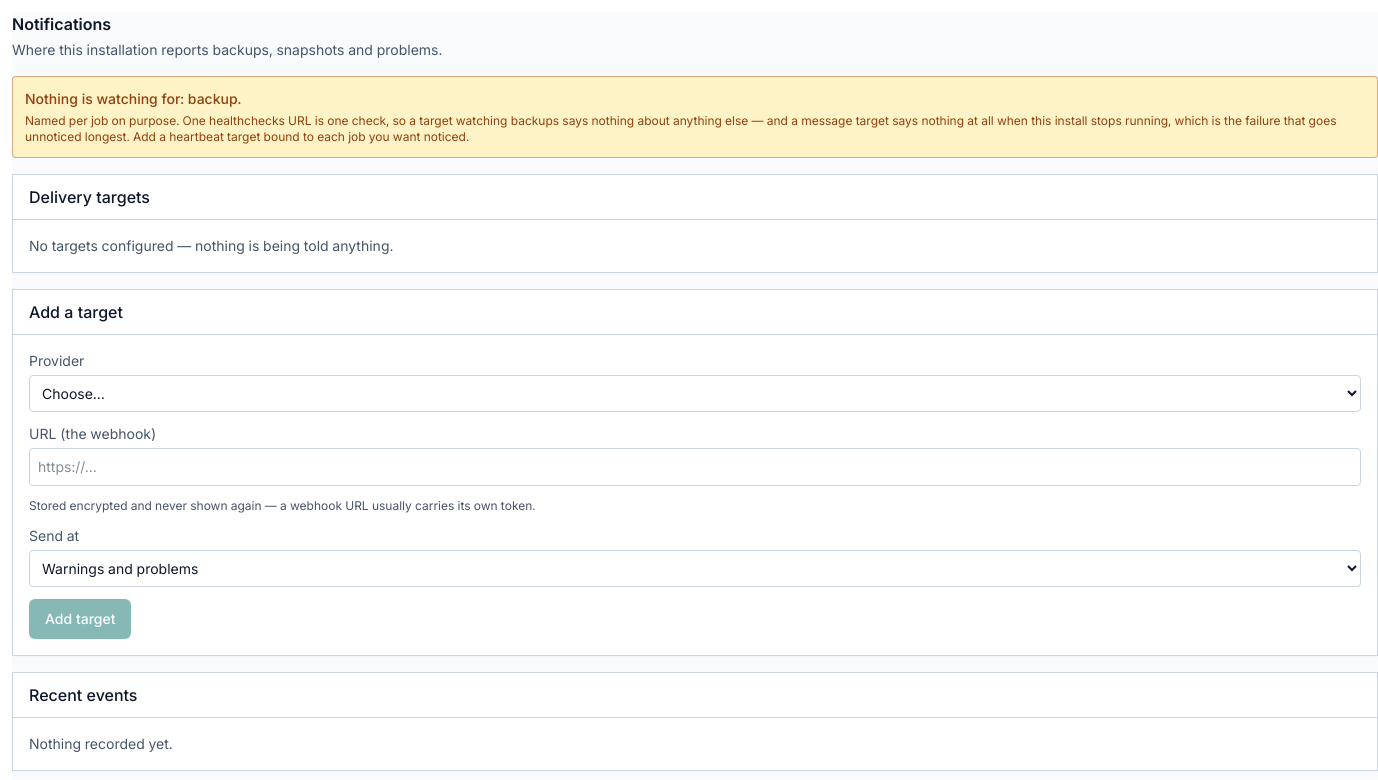
Test: NotificationsPanel › offers no severity floor for a provider whose routing never reads one
The width and height of the screenshot is (1378, 780).
// A message provider: the floor is real and must stay.
Select "Webhook" in the dropdown labelled "Provider". click: (695, 394)
box: x1=29 y1=375 x2=1361 y2=412
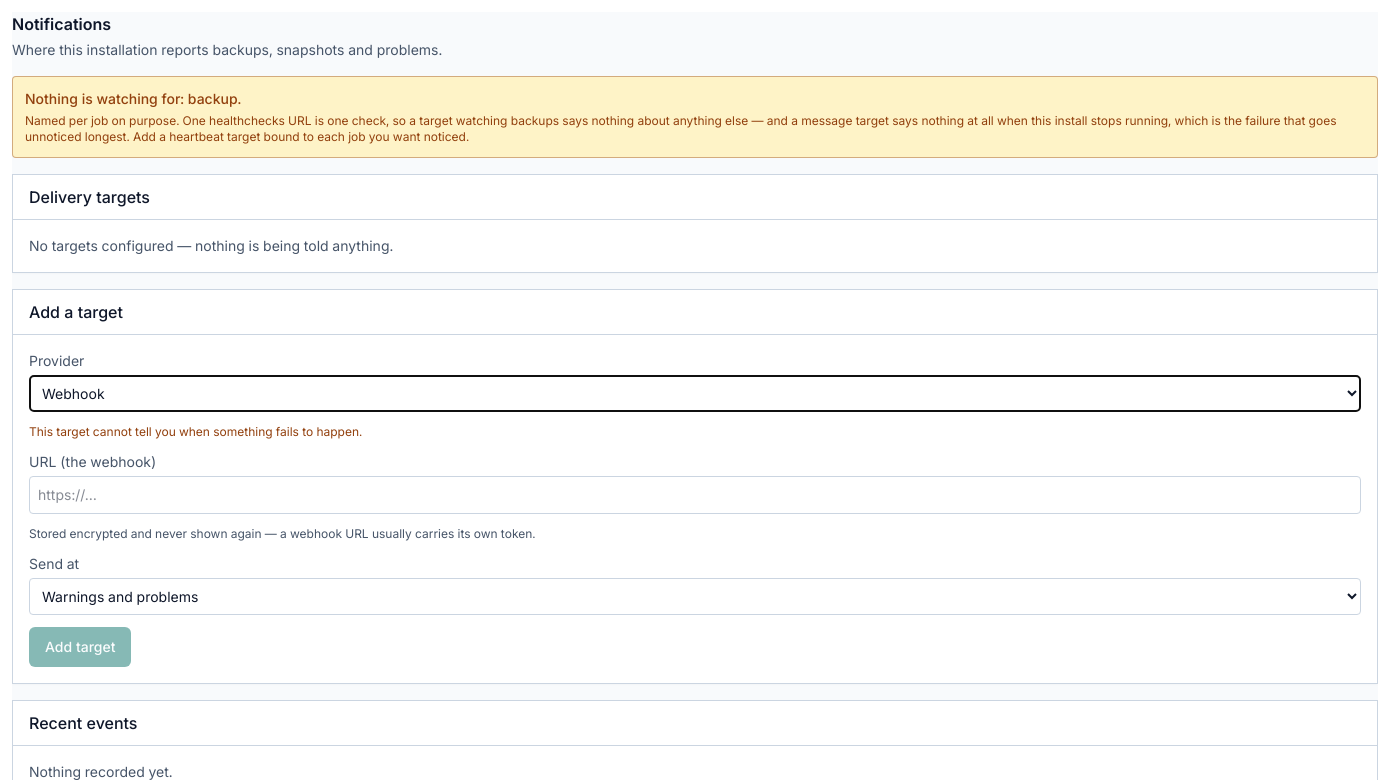
Expected: the text "Send at" is shown, x1=29 y1=555 x2=79 y2=572
Select "Healthchecks — detects silence" in the dropdown labelled "Provider". click: (695, 394)
box: x1=29 y1=375 x2=1361 y2=412
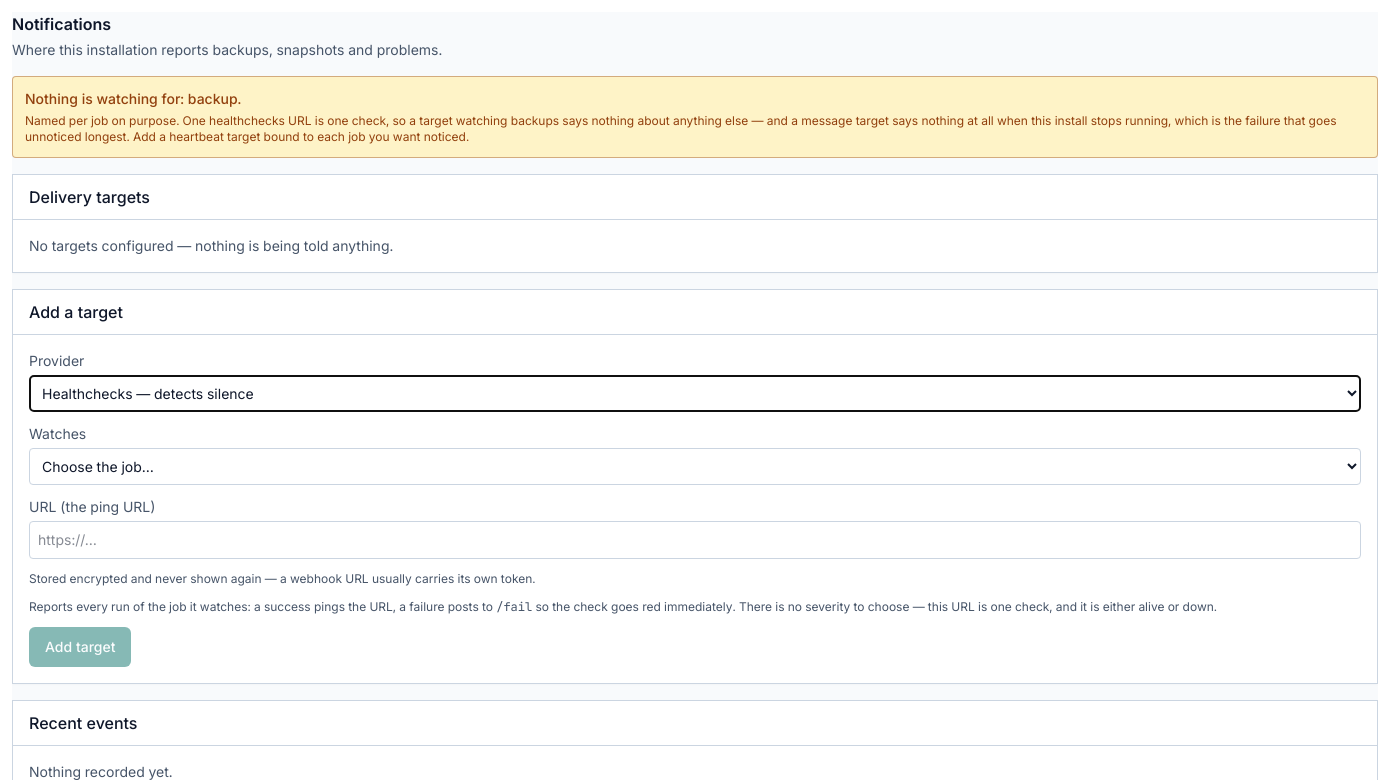
Result: the text "Send at" is gone
Result: the text "posts to" is shown at x1=29 y1=599 x2=496 y2=614
Result: the text "/fail" is shown at x1=496 y1=599 x2=532 y2=615
